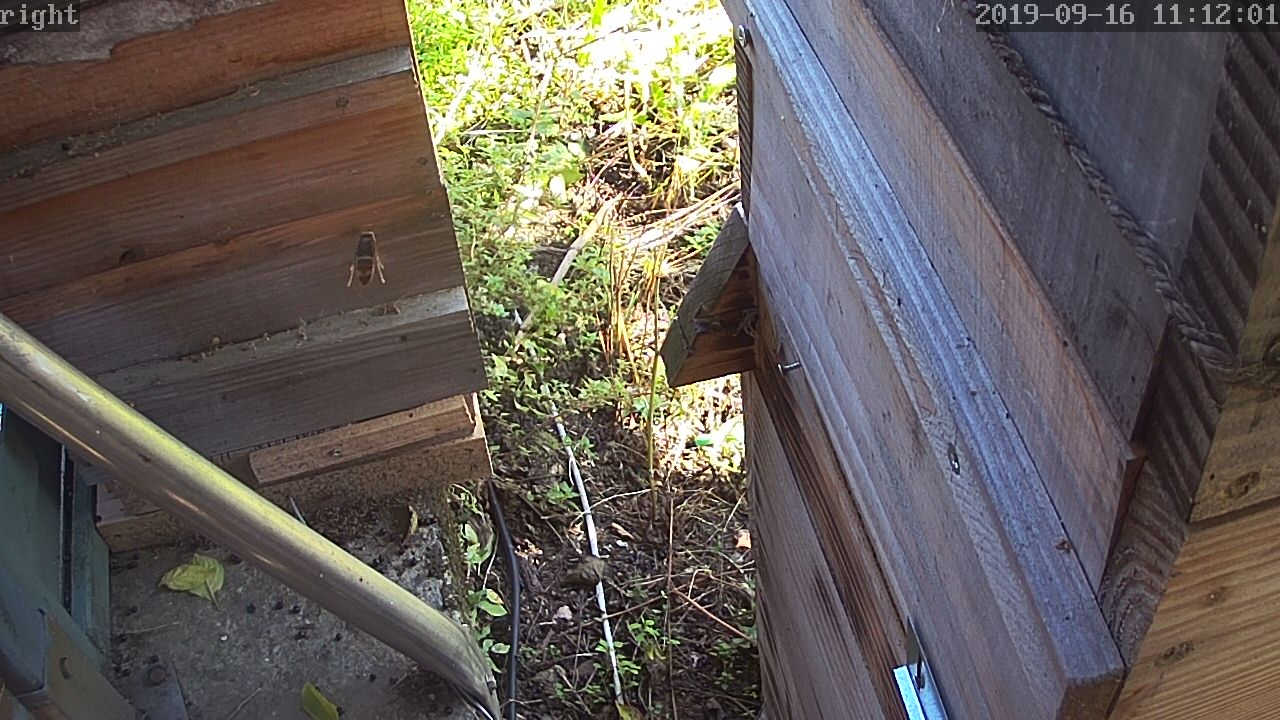hornet: (53, 36, 1244, 715)
